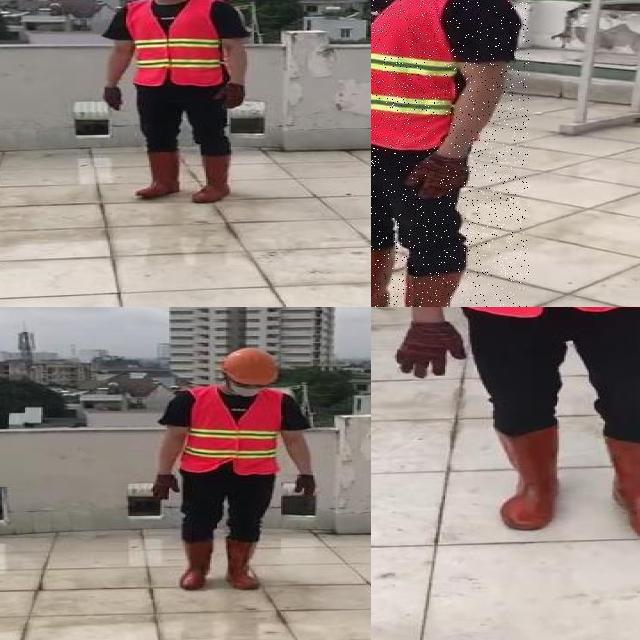boots: (486, 426, 566, 530), (603, 435, 640, 543), (372, 272, 460, 307), (137, 153, 183, 200), (190, 154, 233, 203), (226, 537, 260, 589), (180, 540, 213, 591)
face_mask: (225, 376, 271, 399)
hand_glove: (394, 321, 466, 377), (211, 84, 245, 109), (150, 474, 180, 501), (101, 87, 126, 112), (296, 473, 318, 498)
head_helmet: (371, 307, 640, 556), (220, 346, 282, 386)
person: (371, 0, 529, 307), (147, 345, 326, 599), (99, 0, 255, 206)
vest: (371, 0, 468, 147), (126, 0, 229, 87), (185, 390, 283, 475)
